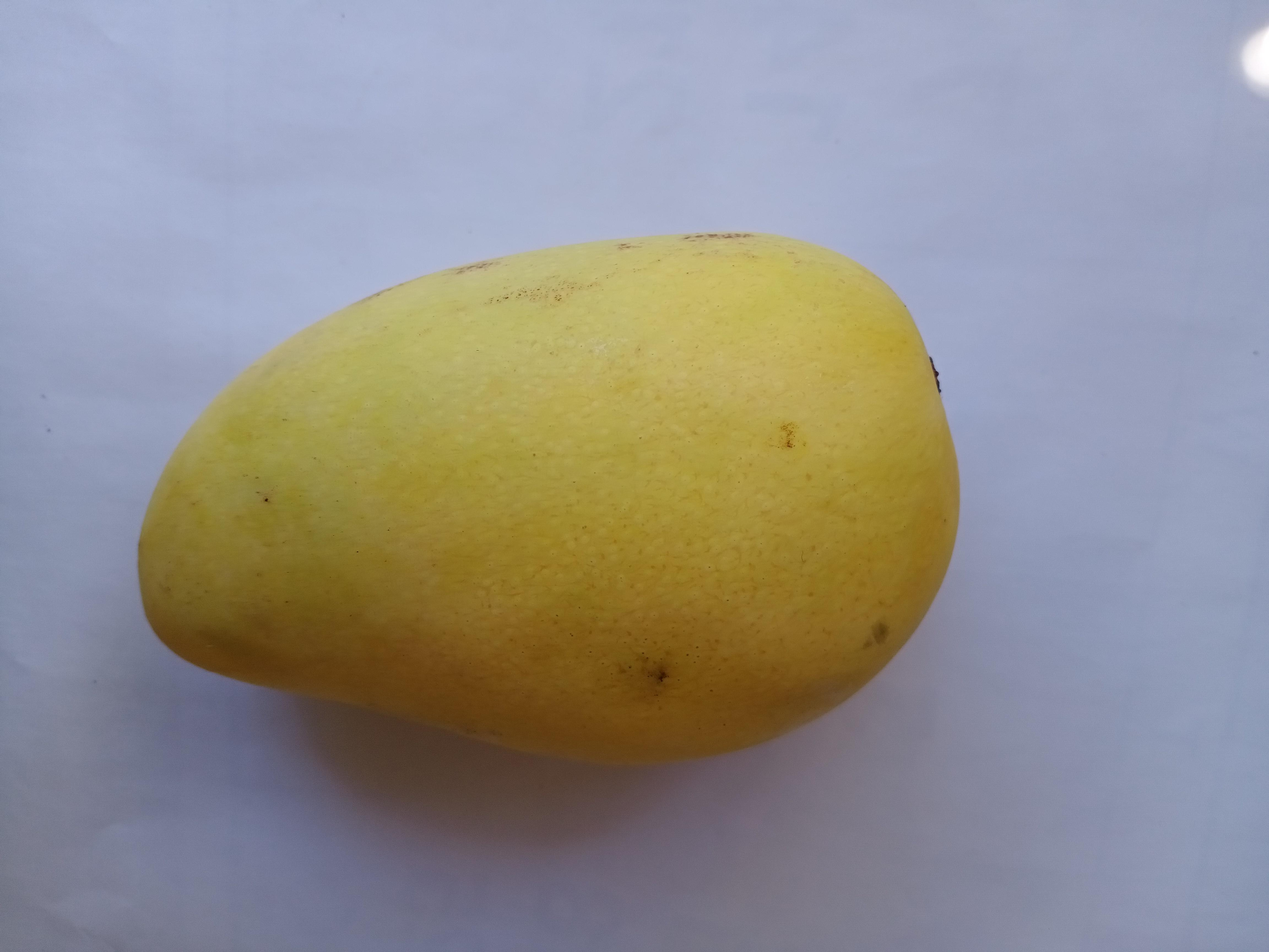Mango Ripe: (58, 196, 1044, 787)
